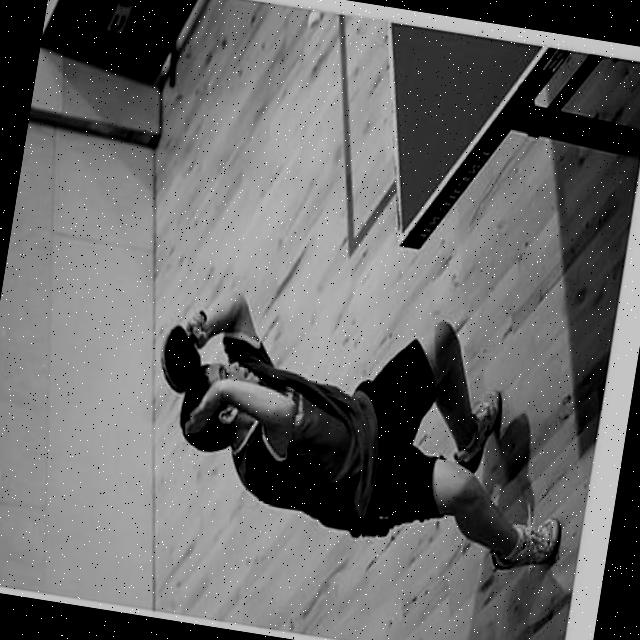ping-pong-ball: (304, 10, 322, 32)
